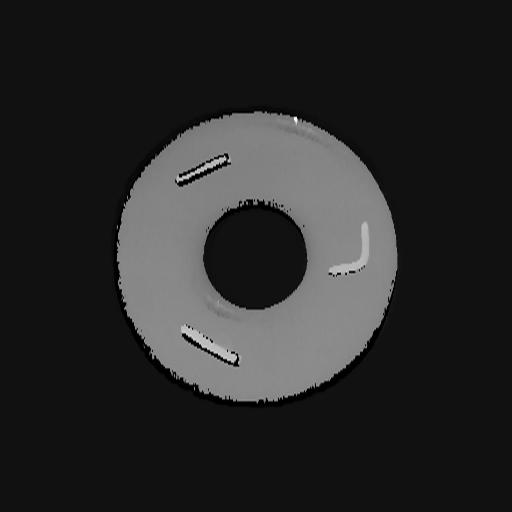defect: (181, 324, 240, 369), (328, 220, 369, 279), (175, 151, 231, 189)
